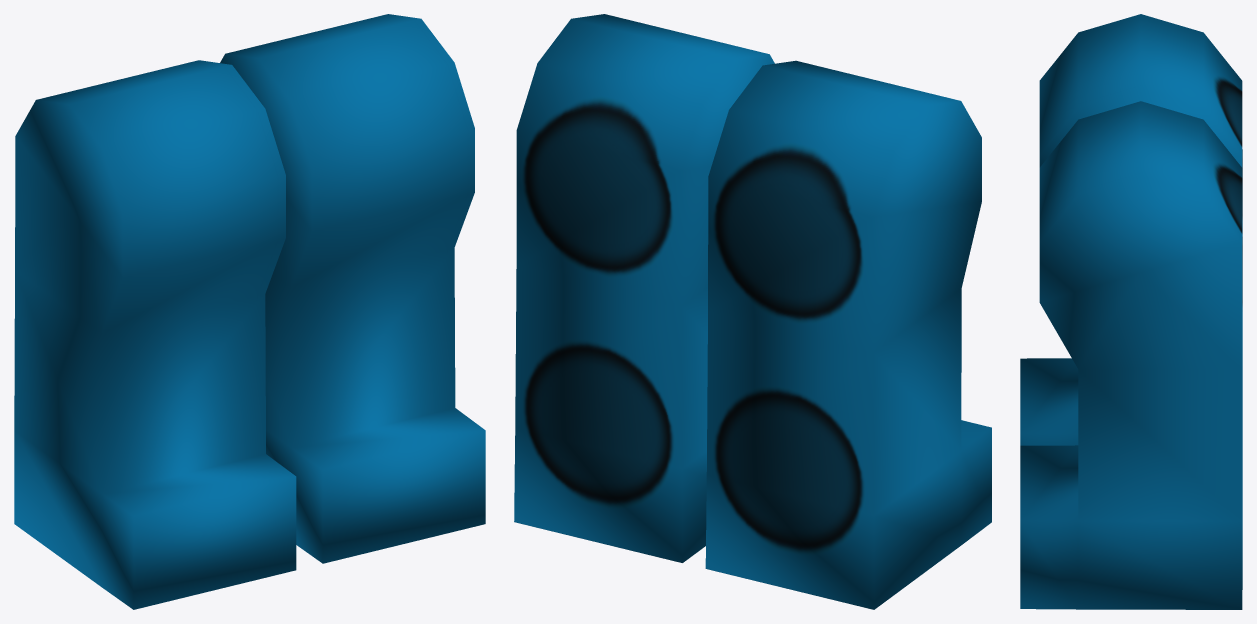
The model's file is Piernas.obj.
The picture shows the model from 3 angles, left to right: view 1: azimuth 30°, elevation 25°; view 2: azimuth 150°, elevation 25°; view 3: azimuth 270°, elevation 25°; orthographic projection. The views are drawn at different scales.
Visible parts, largest first — view 1: Piernas; view 2: Piernas; view 3: Piernas.
Boxes of the visible parts, <box> form: Piernas: <box>14,14,485,609</box>; Piernas: <box>514,14,991,609</box>; Piernas: <box>1020,14,1242,609</box>.
Size of the model in its own units: 7.28 by 8.96 by 4.18.
Materials: 1 (1 with a texture image).
